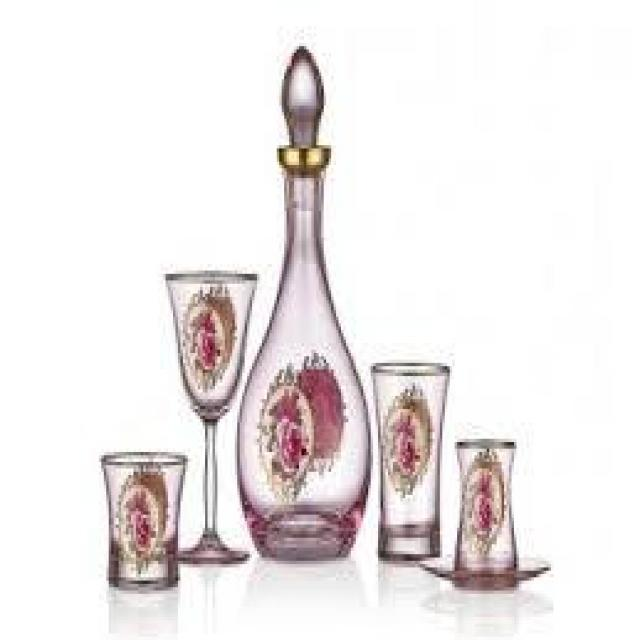non-organic waste: (232, 41, 376, 559), (162, 272, 263, 566), (423, 438, 551, 590), (370, 360, 450, 564), (99, 450, 188, 589)
